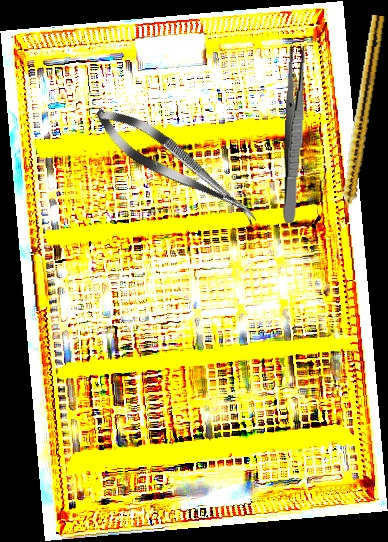Dressing Forceps: (281, 44, 307, 224)
Handpiece: (334, 13, 386, 225)
Micro Scissor: (86, 96, 268, 236)
